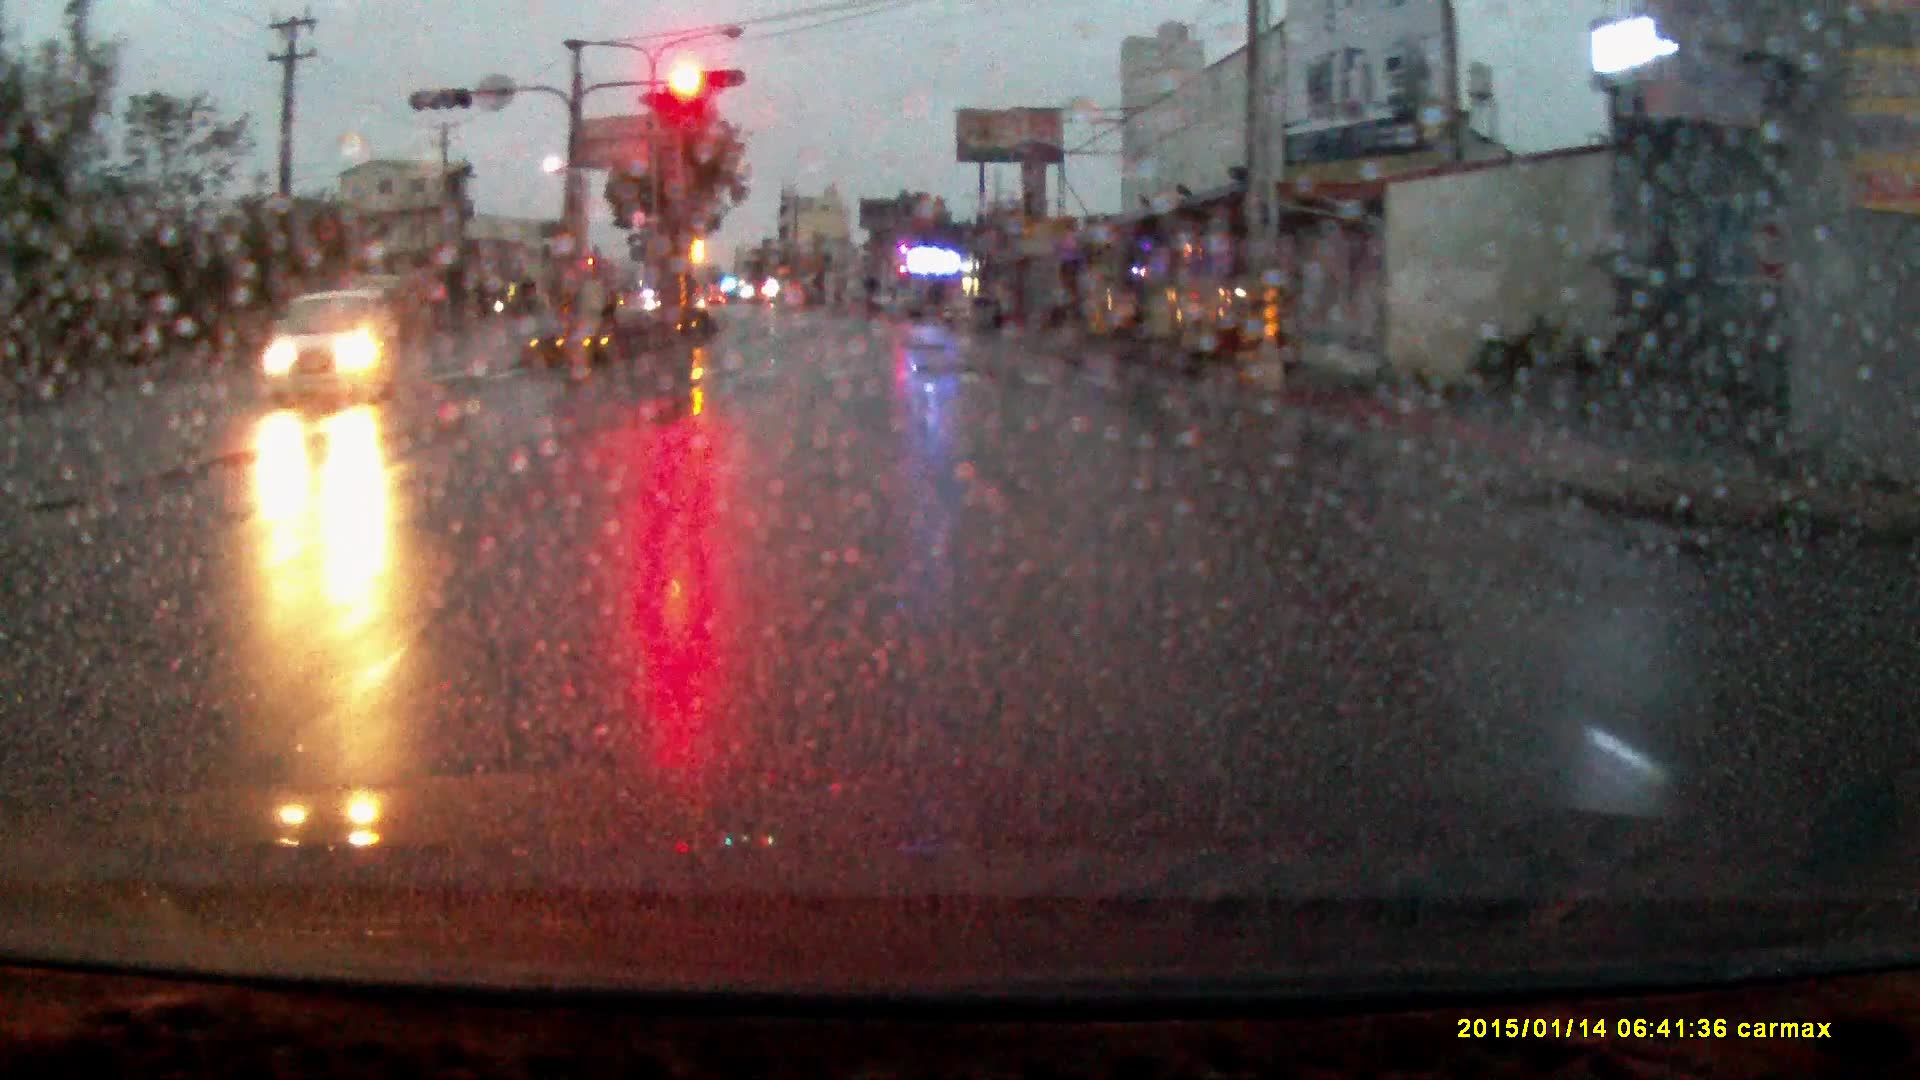vehicle: (256, 287, 400, 409)
